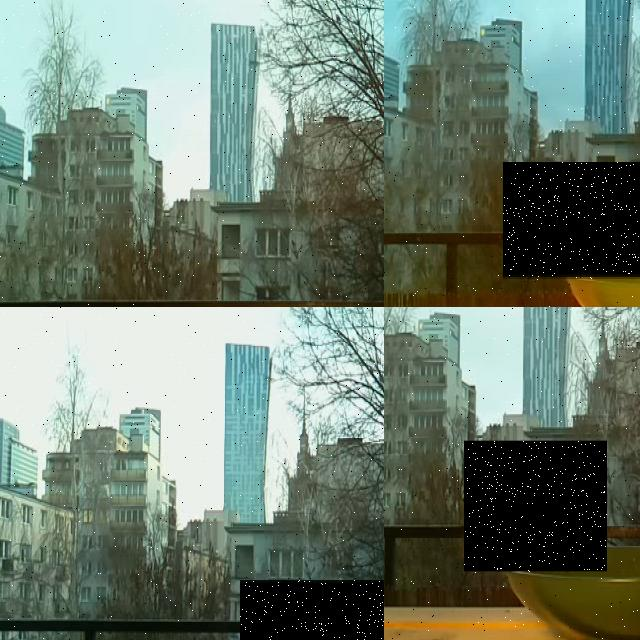Modraszka: (503, 162, 640, 278)
Wrobel: (464, 441, 607, 571), (240, 580, 384, 640)
